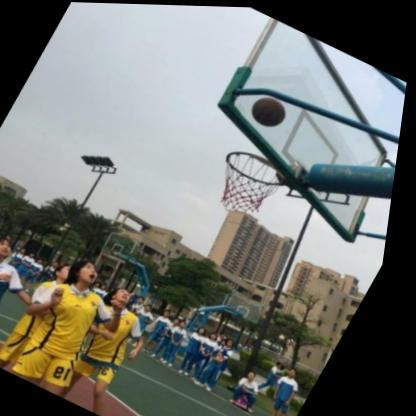basketball: (246, 90, 294, 131)
rim: (205, 140, 302, 223)
